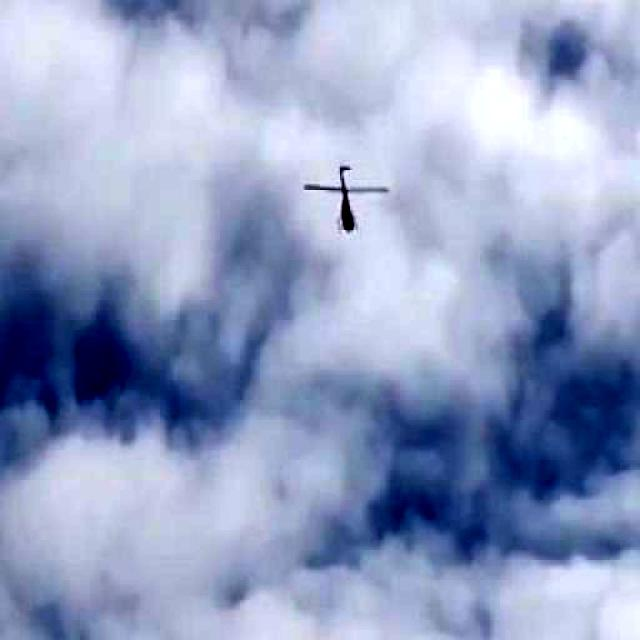drone: (285, 151, 409, 295)
